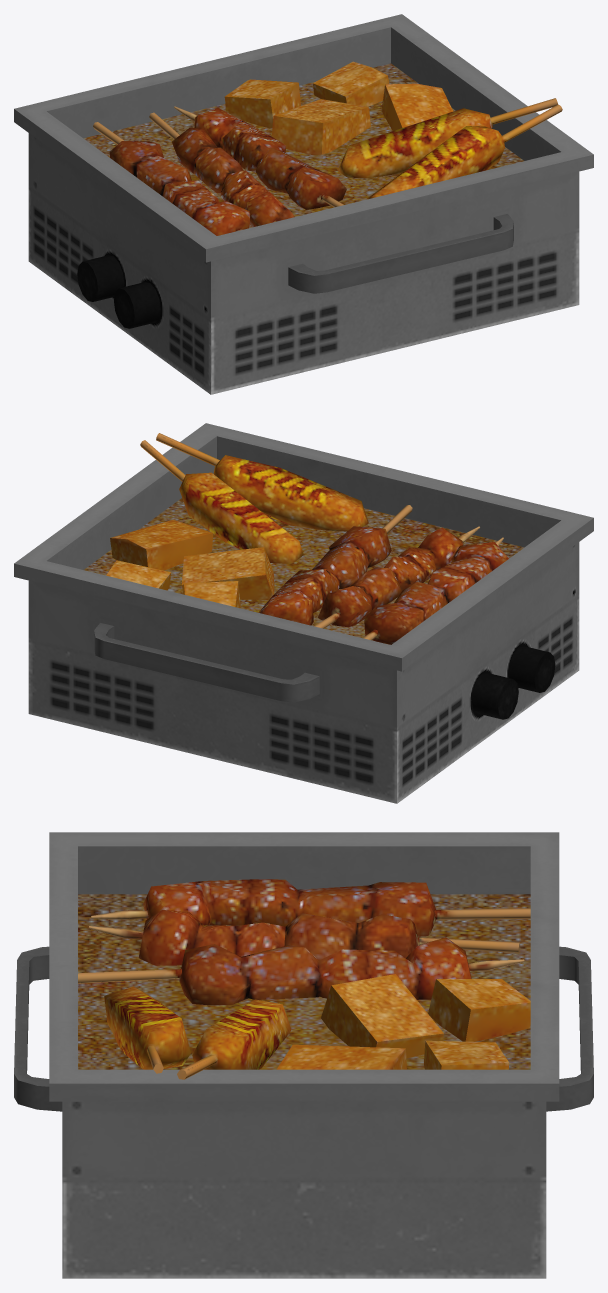
The model's file is CP_Deep_Fryer.fbx.
The picture shows the model from 3 angles, top to bottom: view 1: azimuth 30°, elevation 25°; view 2: azimuth 150°, elevation 25°; view 3: azimuth 270°, elevation 25°; orthographic projection. The views are drawn at different scales.
Visible parts, largest first — view 1: CP_Deep_Fryer_LOD0; view 2: CP_Deep_Fryer_LOD0; view 3: CP_Deep_Fryer_LOD0.
Part boxes in pixels (box(x1,y1,x2,y2)): CP_Deep_Fryer_LOD0: box(14, 14, 593, 394); CP_Deep_Fryer_LOD0: box(14, 423, 593, 803); CP_Deep_Fryer_LOD0: box(14, 832, 593, 1278).
Size of what is drawn, in the model's own units: 50.74 by 19.65 by 45.86.
